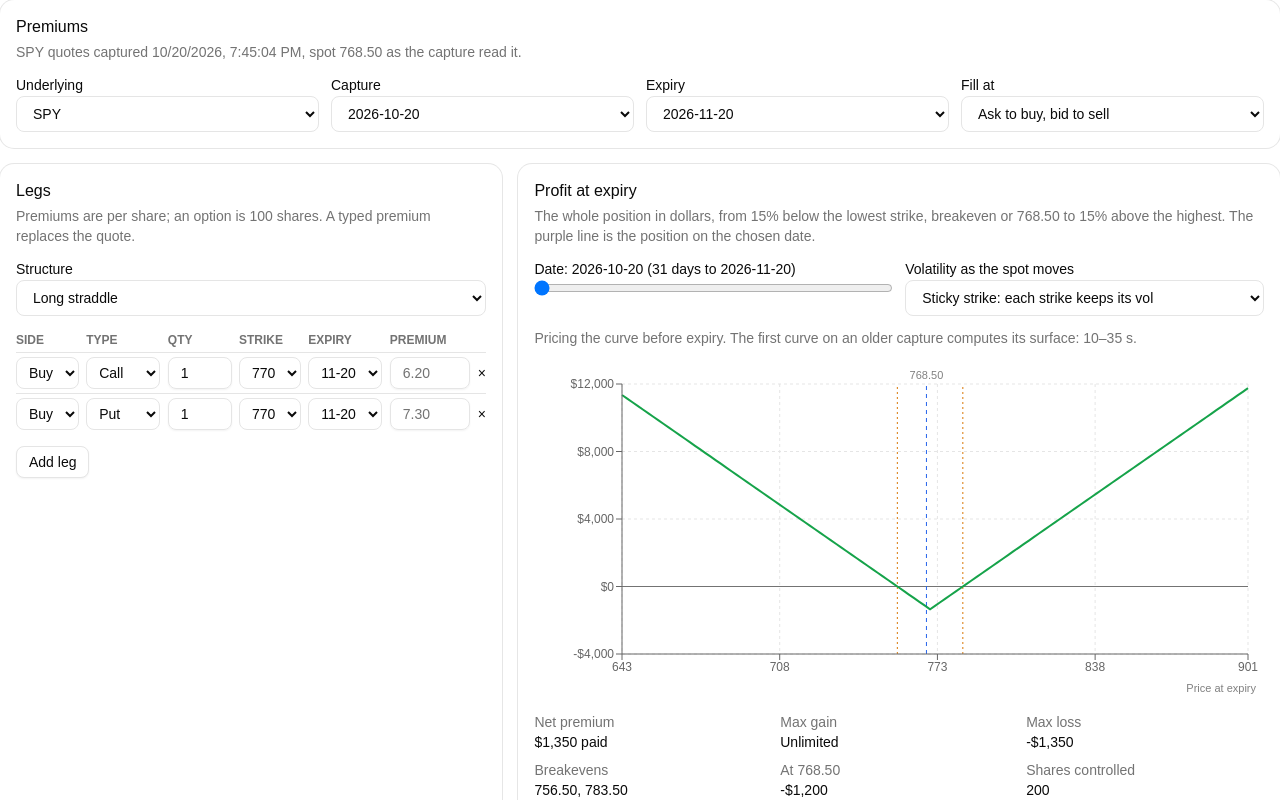
Test: PayoffPage › works on typed premiums with no capture
Select "None: type premiums" in the dropdown labelled "Underlying" at x=168, y=114, box [16,96,319,132]
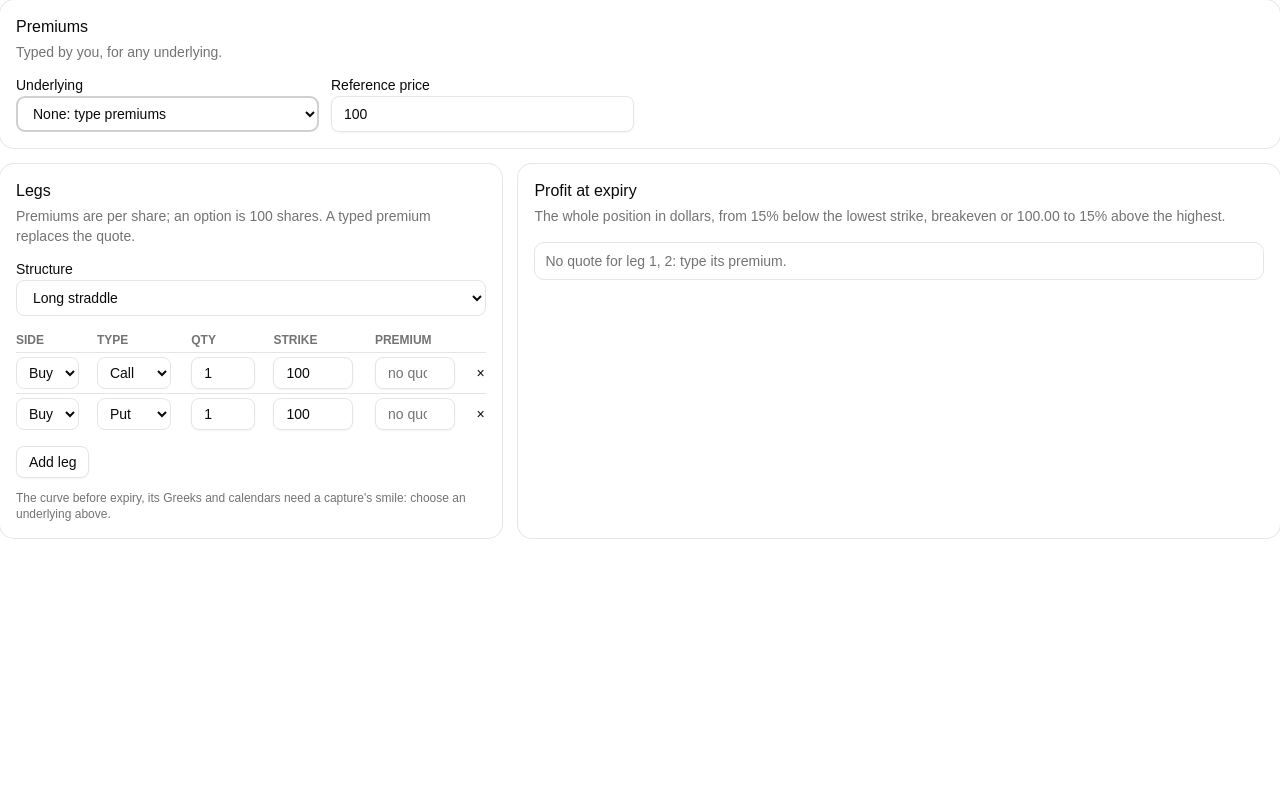
Check: the text "No quote for leg 1, 2: type its premium." is shown, box [545,253,787,269]
Check: the number field named "Leg 1 strike" holds "100", box [273,357,353,389]
Type "3" into the number field named "Leg 1 premium" at x=415, y=373, box [375,357,455,389]
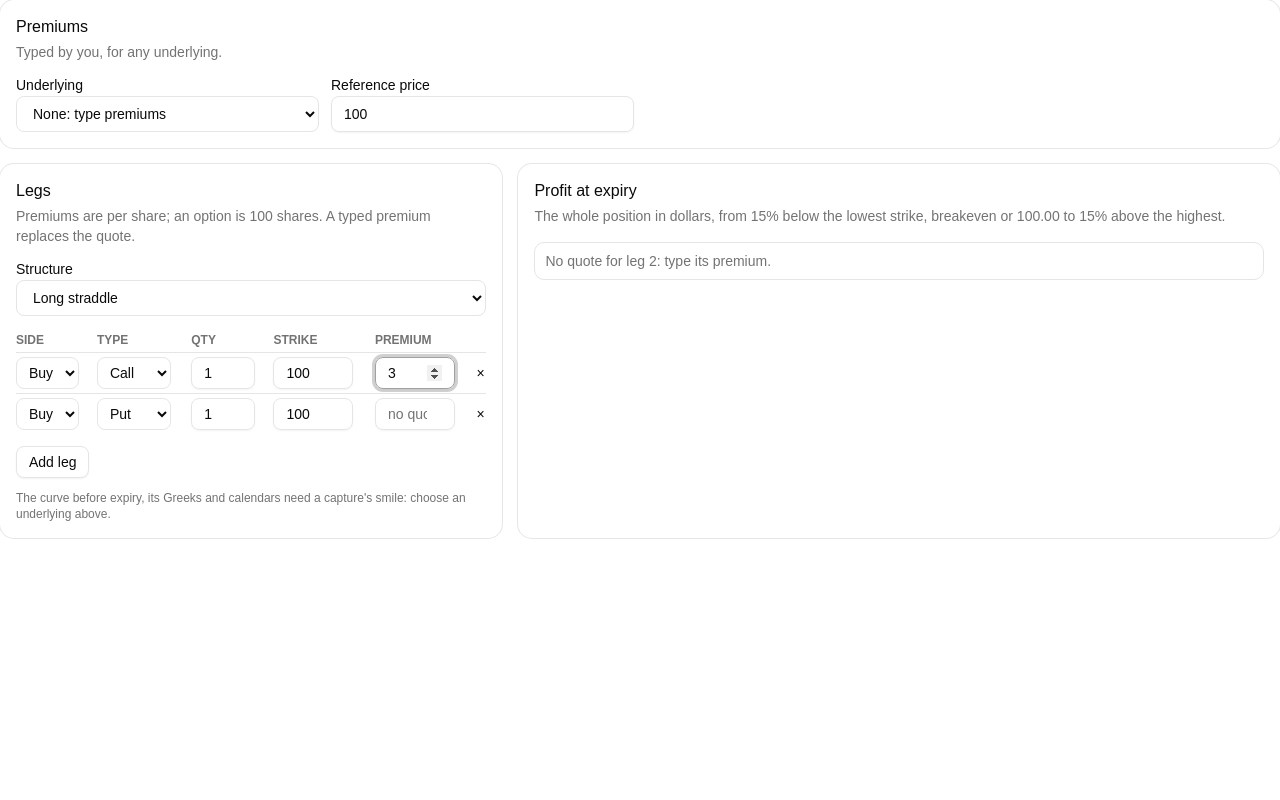
Type "2" into the number field named "Leg 2 premium" at x=415, y=414, box [375,398,455,430]
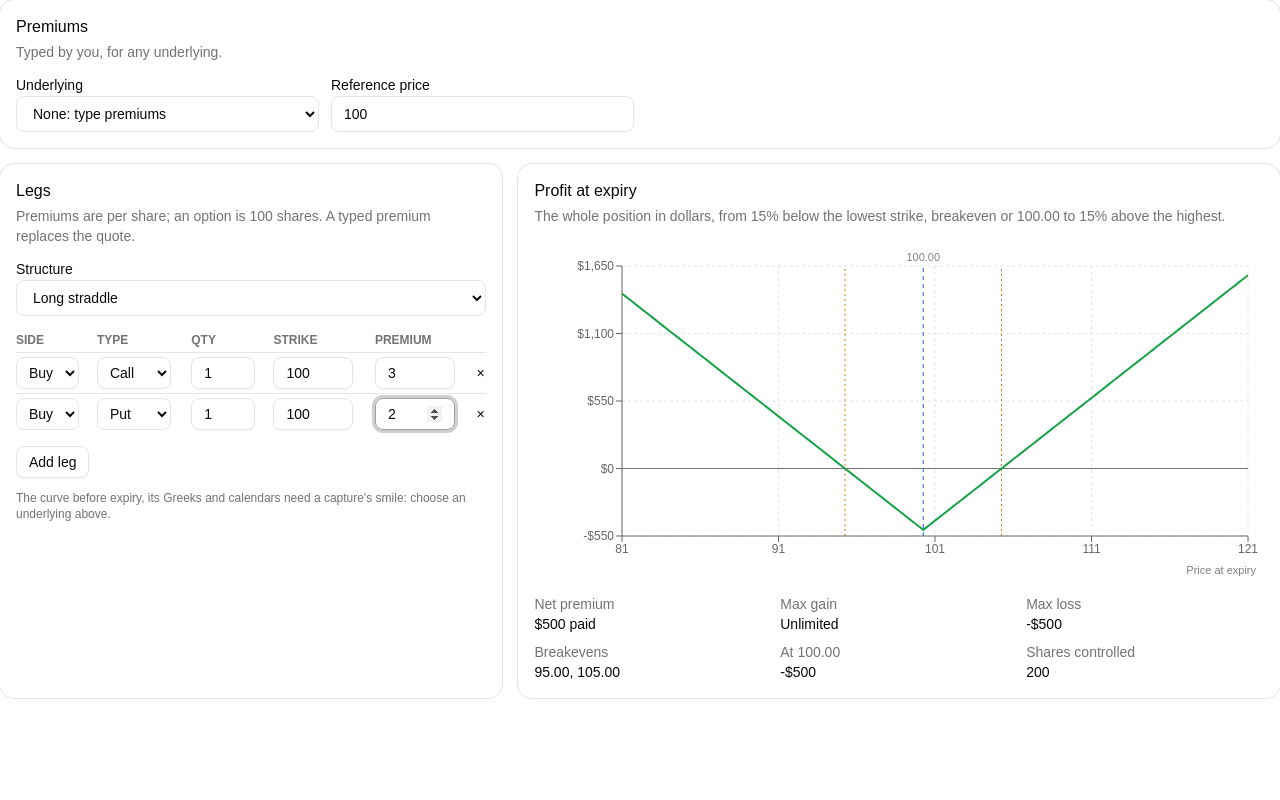
Check: the text "95.00, 105.00" is shown, box [534,664,620,680]
